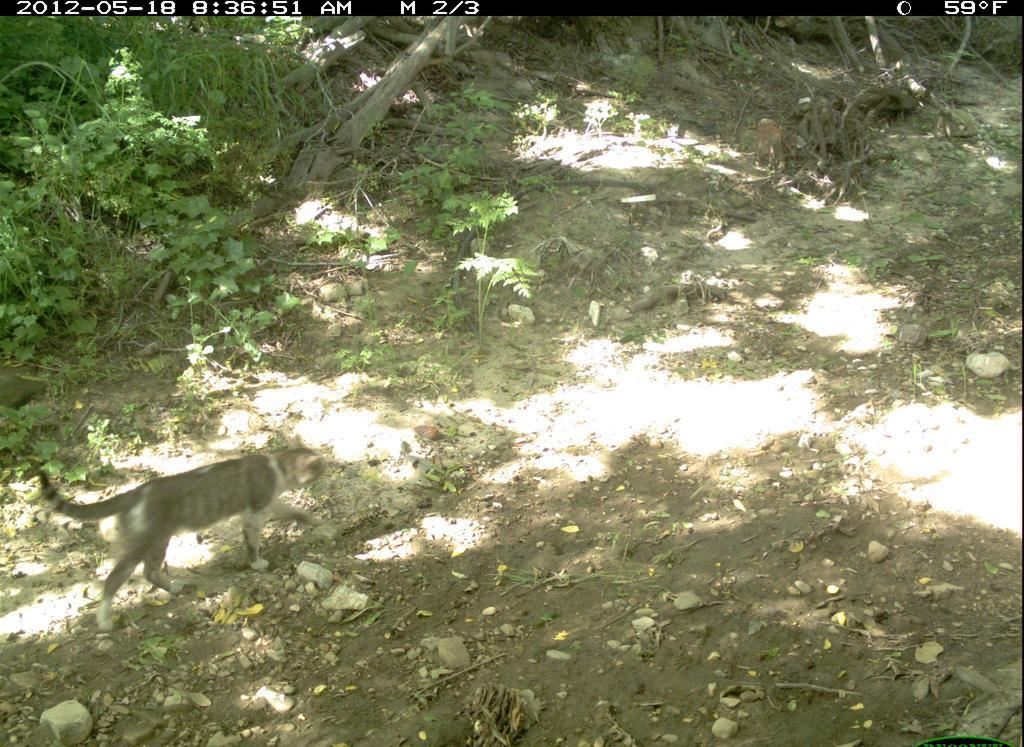cat: (16, 414, 397, 653)
